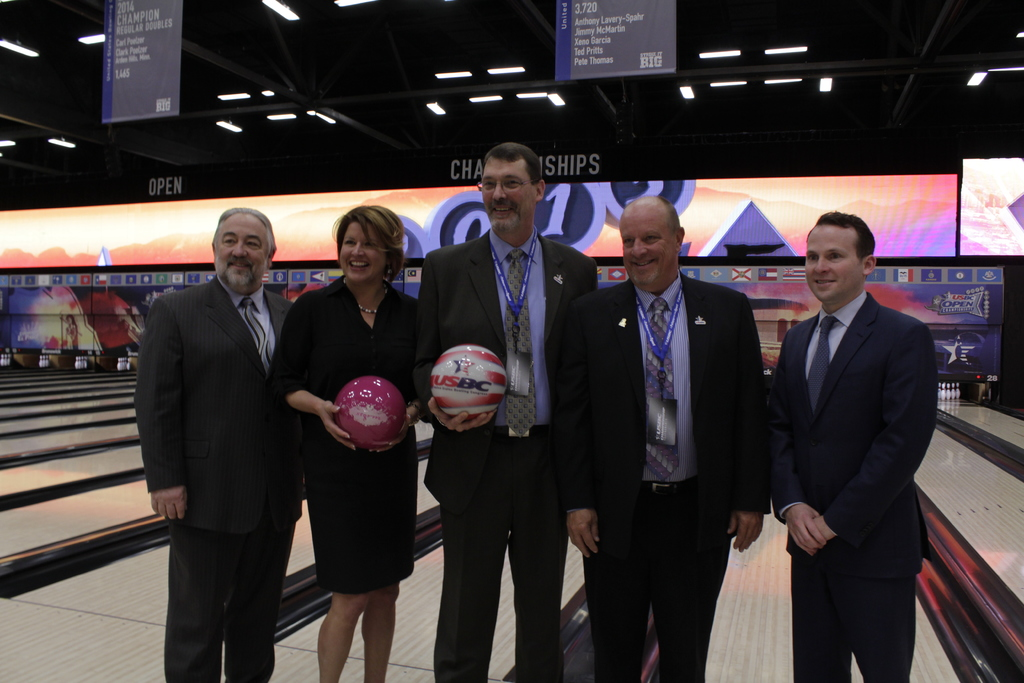Ball: (426, 345, 508, 421), (335, 377, 404, 458)
